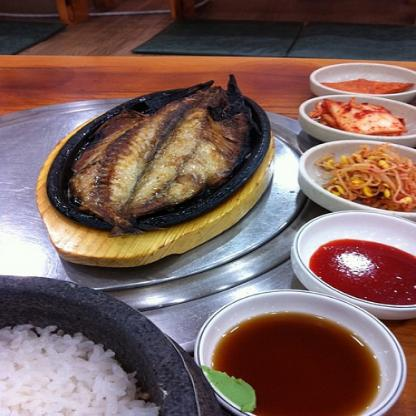Peixe: (50, 76, 272, 240)
